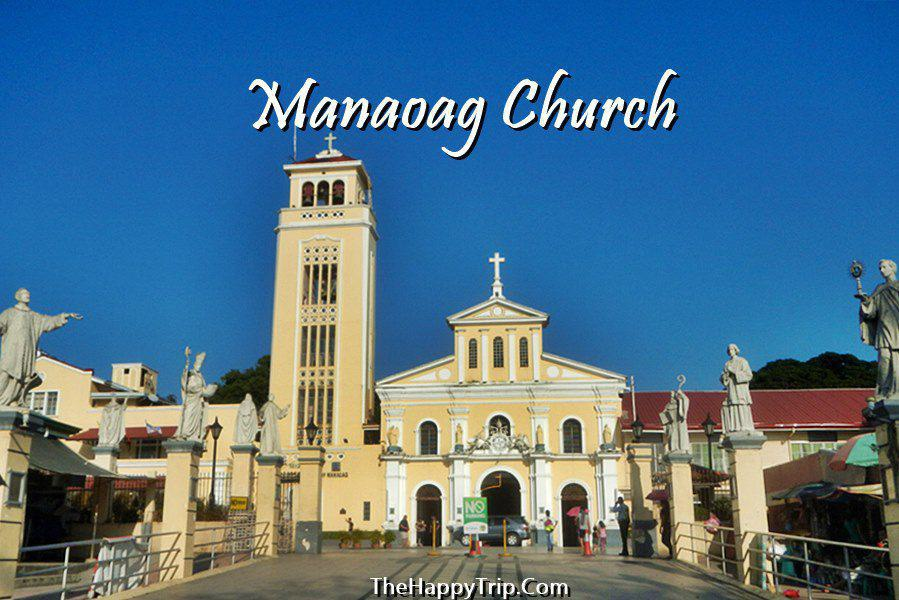manaoag_church_manaoag_pangasinan: (260, 129, 631, 534)
